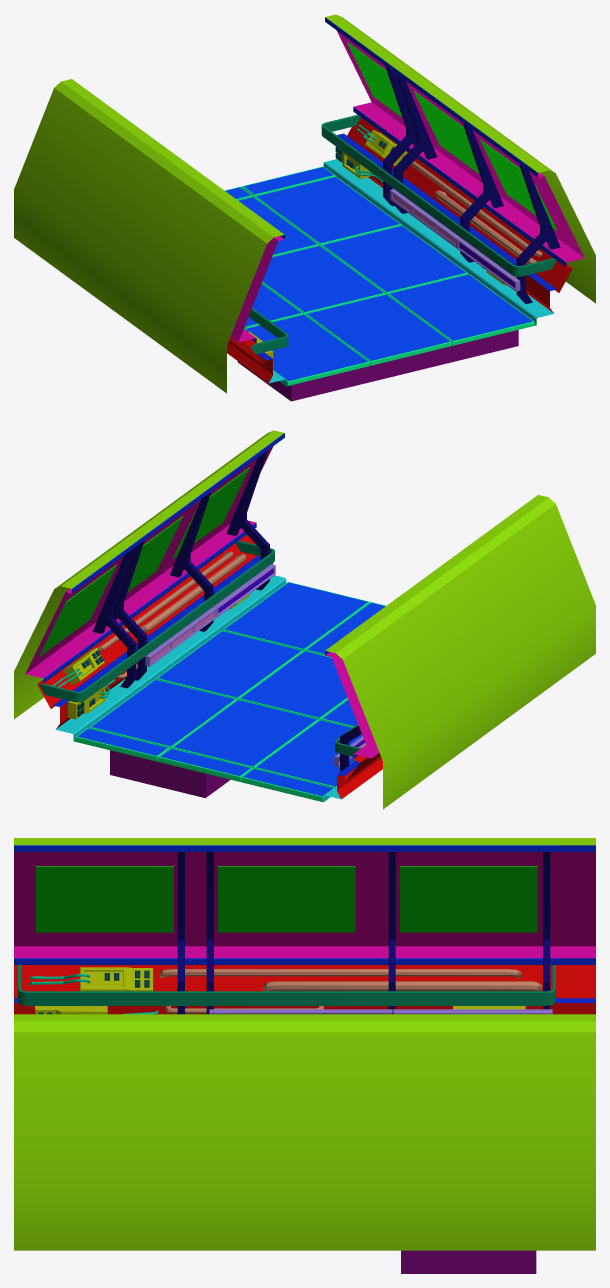
The model's file is corridor_scifi_01.fbx.
3 views of the same model, one above another, from view 1: azimuth 30°, elevation 25°; view 2: azimuth 150°, elevation 25°; view 3: azimuth 270°, elevation 25° (orthographic). The views are drawn at different scales.
Visible parts, largest first — view 1: Wall_L, Floor, Wall_R; view 2: Wall_L, Floor, Wall_R; view 3: Wall_R, Wall_L, Floor.
Part boxes in pixels (x1,y1,x2,y2): Wall_L: (14, 79, 288, 393); Floor: (224, 166, 536, 401); Wall_R: (321, 14, 595, 324); Wall_L: (323, 495, 595, 809); Floor: (74, 582, 385, 802); Wall_R: (14, 430, 286, 740); Wall_R: (14, 1014, 595, 1250); Wall_L: (14, 838, 595, 1014); Floor: (401, 1250, 536, 1273).
Bounding box in the file's own units: 800 × 410 × 800.
